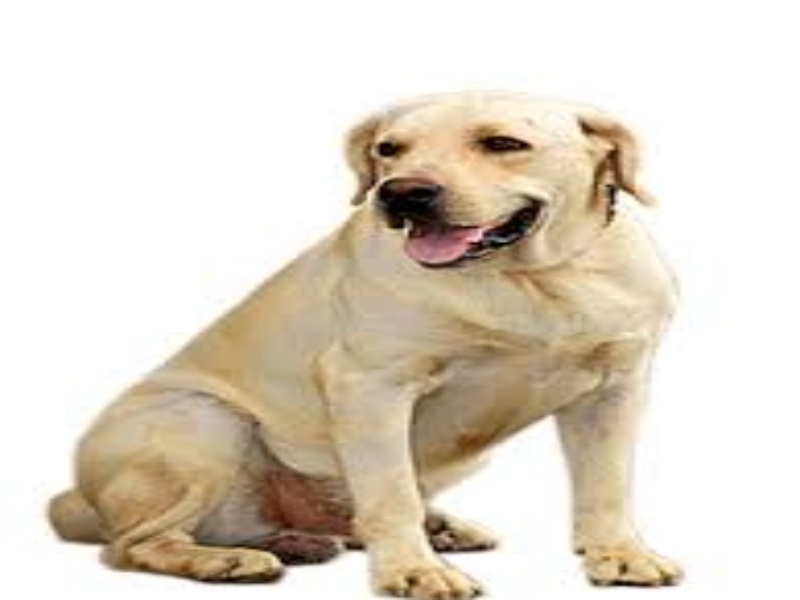dog: (46, 81, 698, 600)
